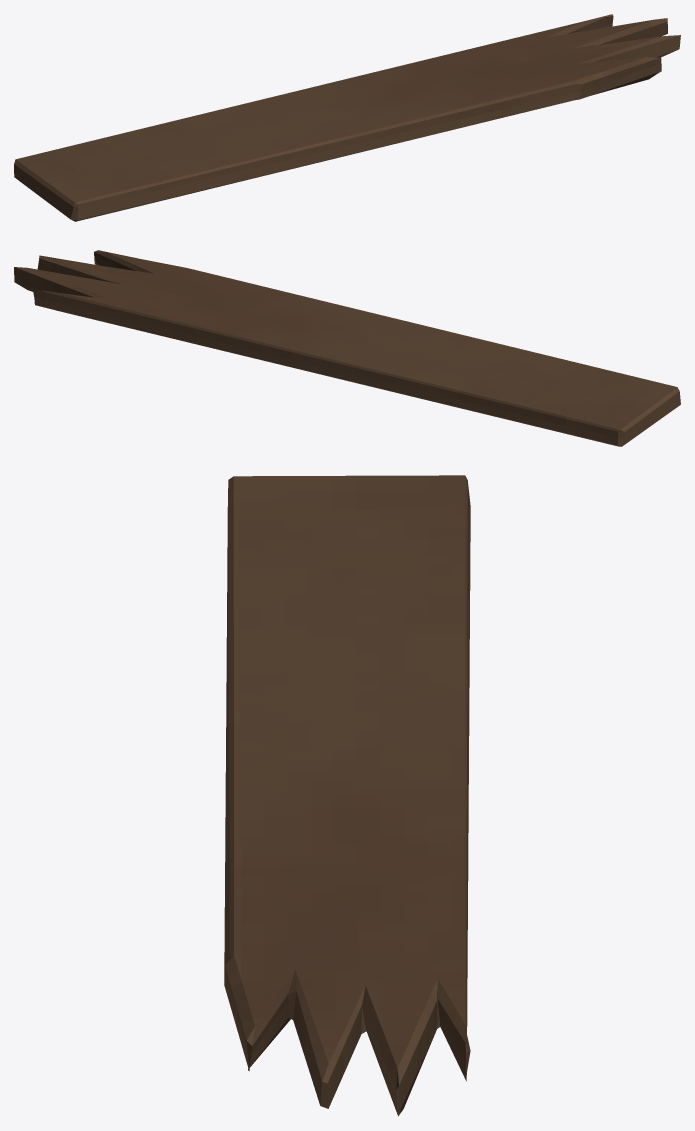
File: plank_broken_01.glb
3 views of the same model, one above another, from view 1: azimuth 30°, elevation 25°; view 2: azimuth 150°, elevation 25°; view 3: azimuth 270°, elevation 25° (orthographic). The views are drawn at different scales.
Visible parts, largest first — view 1: plank_broken_01; view 2: plank_broken_01; view 3: plank_broken_01.
Boxes of the visible parts, <box> form: plank_broken_01: <box>14,14,680,221</box>; plank_broken_01: <box>14,250,680,446</box>; plank_broken_01: <box>224,475,470,1116</box>.
Bounding box in the file's own units: 0.8372 × 0.0275 × 0.1427.
1 material, 1 textured.
